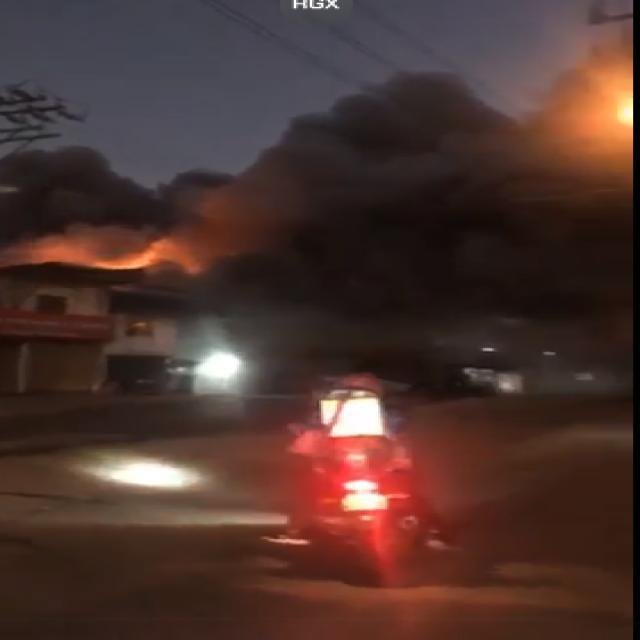Fire: (8, 226, 230, 273)
Smoke: (220, 140, 640, 330)
